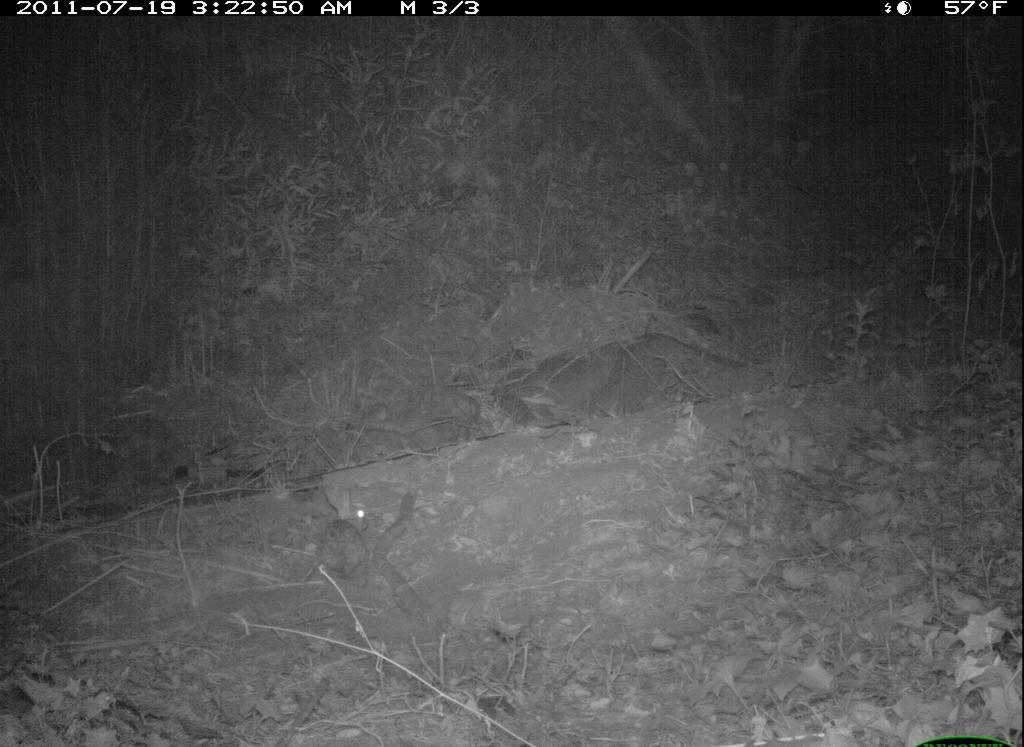rabbit: (301, 504, 382, 592)
